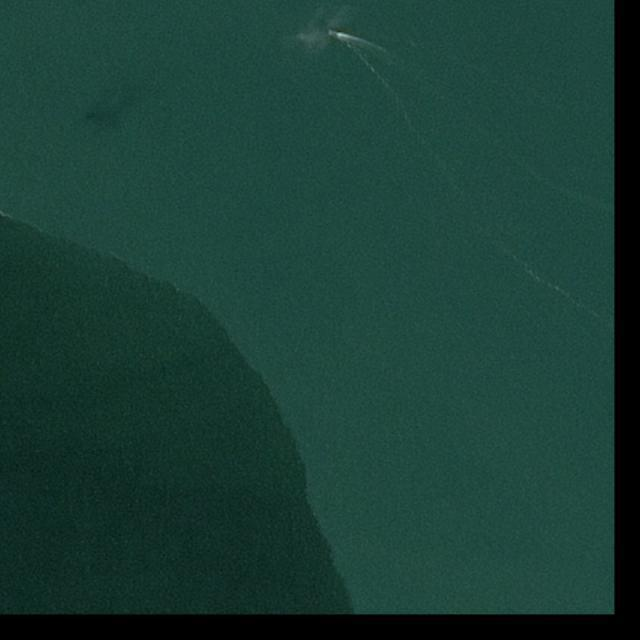ship: (329, 31, 341, 40)
